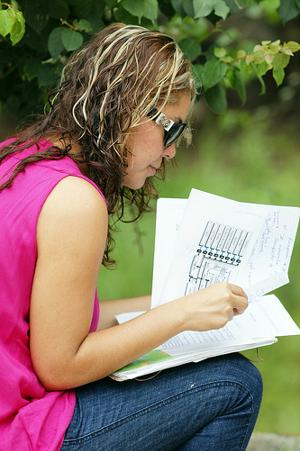person: (2, 21, 264, 450)
